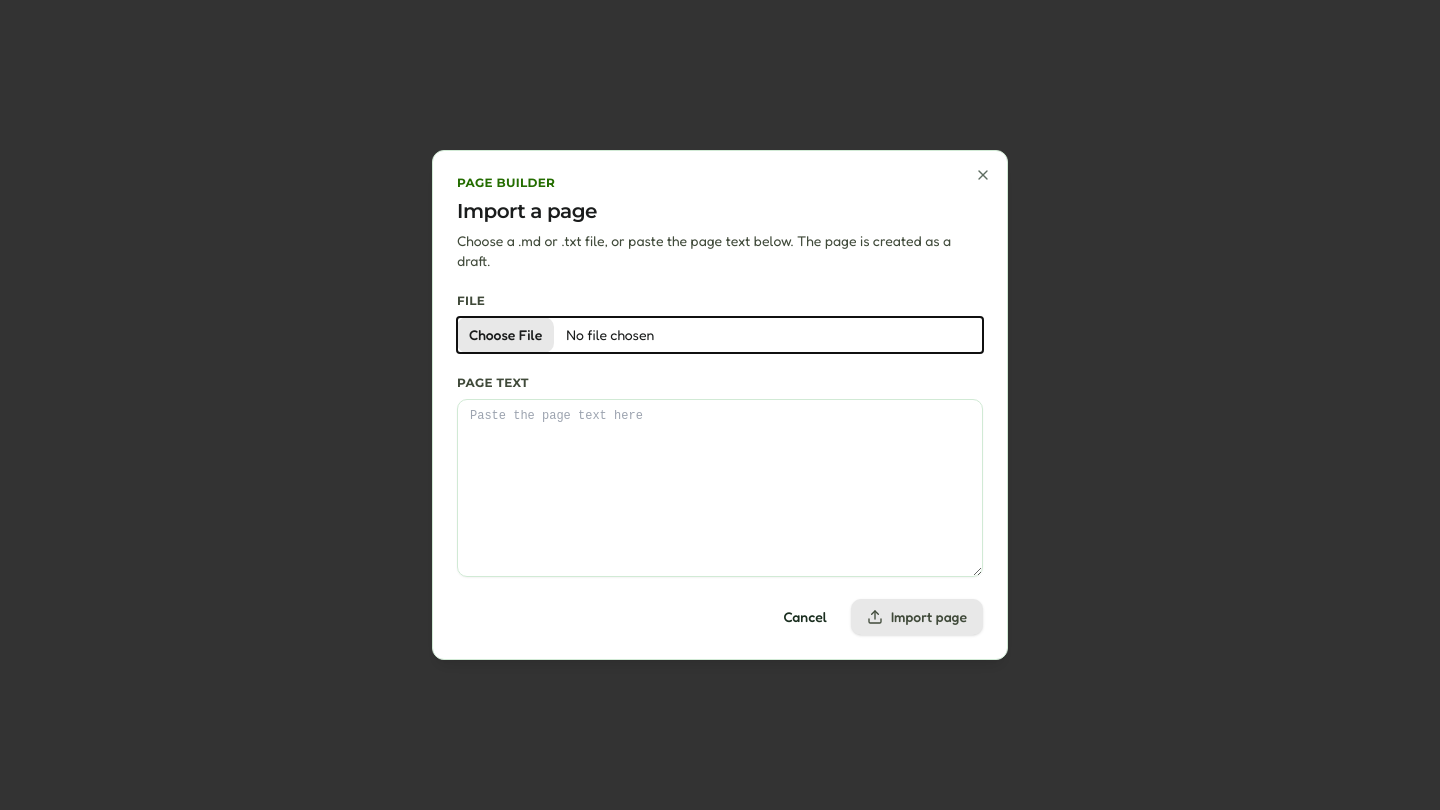
Scenario: ImportPageDialog › has a labelled dialog, a .md/.txt file chooser, and a disabled Import button while empty
Expected: the dialog "Import a page" is shown, [432,150,1008,660]
Expected: the button "Import page" is disabled, [851,599,983,635]
Type "hello" into the text box labelled "Page text" at (720, 488), box [457,399,983,577]
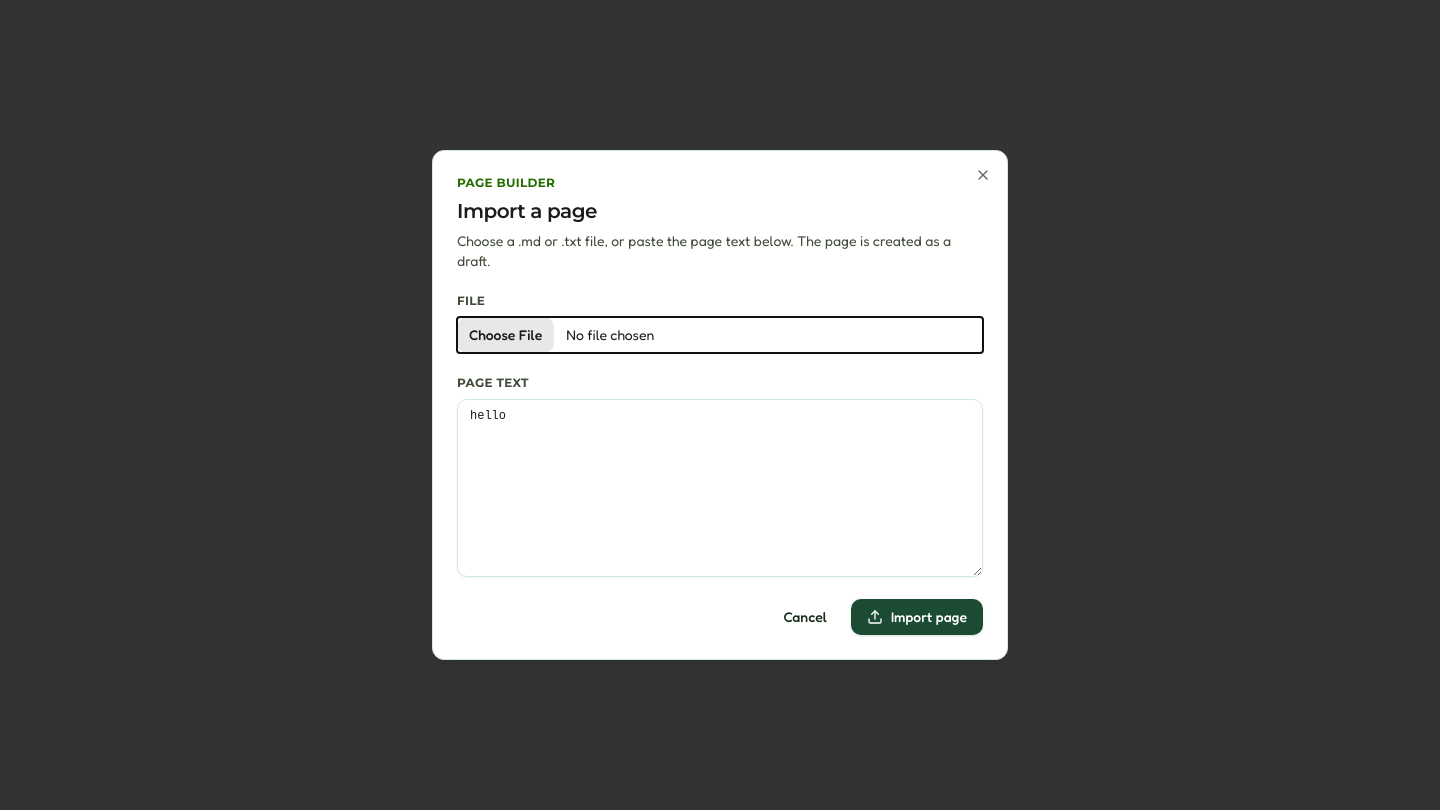
Expected: the button "Import page" is enabled, [851,599,983,635]
